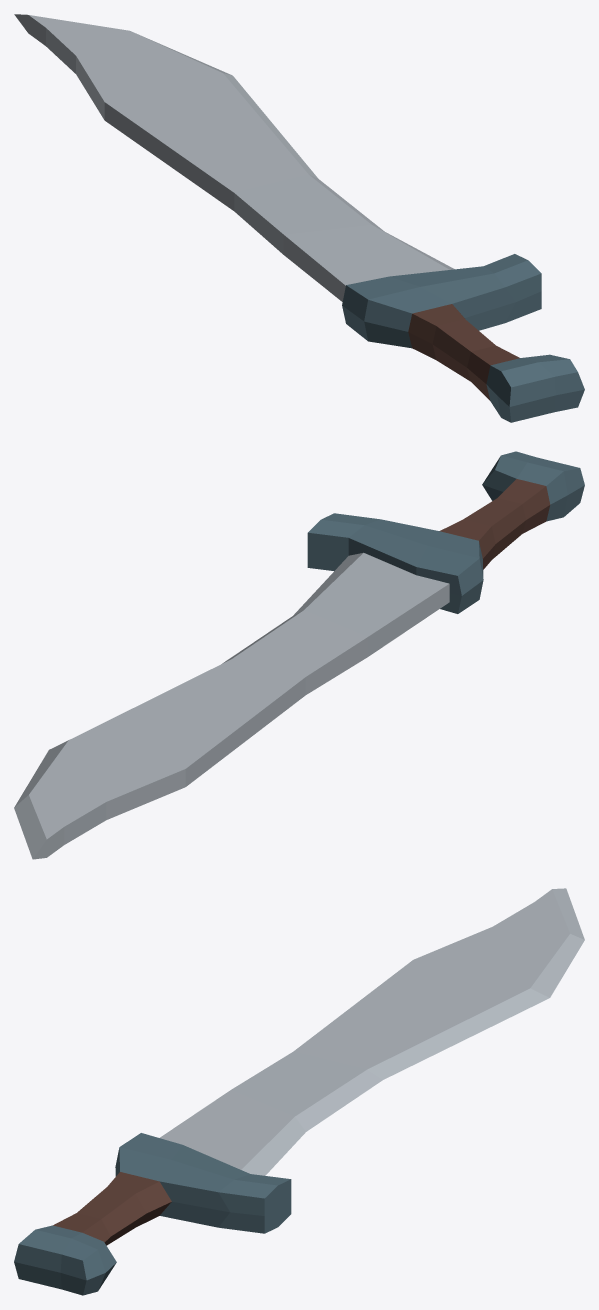
Rendered from Cimitarra (2).FBX.
3 renders of one model, top to bottom at view 1: azimuth 30°, elevation 25°; view 2: azimuth 150°, elevation 25°; view 3: azimuth 330°, elevation 25°, orthographic.
Parts seen in each view (by area): view 1: Cimitarra; view 2: Cimitarra; view 3: Cimitarra.
Boxes of the visible parts, x1,y1,x2,y2 form: Cimitarra: (14,14,584,422); Cimitarra: (14,451,584,859); Cimitarra: (14,888,584,1295).
Size of the model in its own units: 30.91 by 8.37 by 172.
